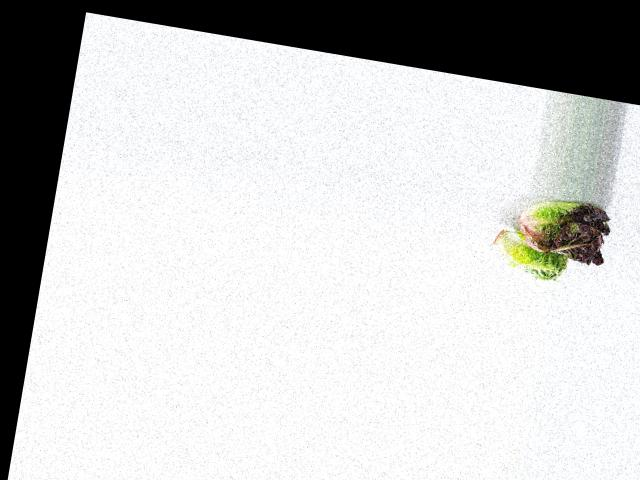lettuce: (485, 224, 573, 284)
